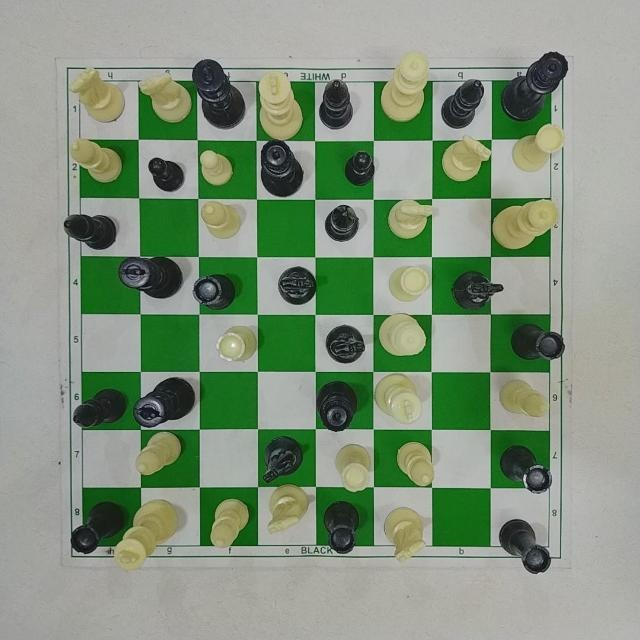black-bishop: (442, 76, 483, 128), (72, 389, 124, 429), (316, 79, 355, 127), (64, 213, 116, 248), (324, 203, 359, 240)
black-king: (193, 58, 247, 129), (135, 375, 196, 427), (119, 256, 181, 298)
black-knight: (451, 271, 501, 311), (262, 437, 304, 483), (324, 324, 363, 363), (279, 267, 317, 306)
black-pawn: (146, 157, 185, 191), (344, 150, 376, 186)
black-queen: (502, 51, 568, 120), (259, 141, 305, 197), (317, 381, 363, 429)
black-rook: (498, 517, 556, 575), (70, 504, 123, 554), (501, 447, 553, 495), (321, 498, 361, 553), (512, 324, 564, 362), (190, 274, 236, 309)
white-bishop: (66, 138, 124, 183), (206, 497, 252, 549), (132, 432, 182, 478), (497, 378, 546, 420), (397, 443, 437, 487), (201, 199, 242, 238)
white-king: (117, 499, 175, 571), (256, 72, 305, 140), (375, 374, 423, 424)
white-knight: (66, 65, 128, 123), (136, 74, 194, 122), (383, 508, 429, 560), (442, 134, 492, 180), (266, 486, 308, 536), (388, 199, 431, 239)
white-pawn: (200, 147, 233, 186)
white-queen: (382, 50, 430, 121), (491, 198, 554, 247), (379, 314, 429, 357)
white-rook: (512, 124, 561, 171), (333, 443, 375, 491), (214, 324, 258, 361), (389, 264, 428, 304)
